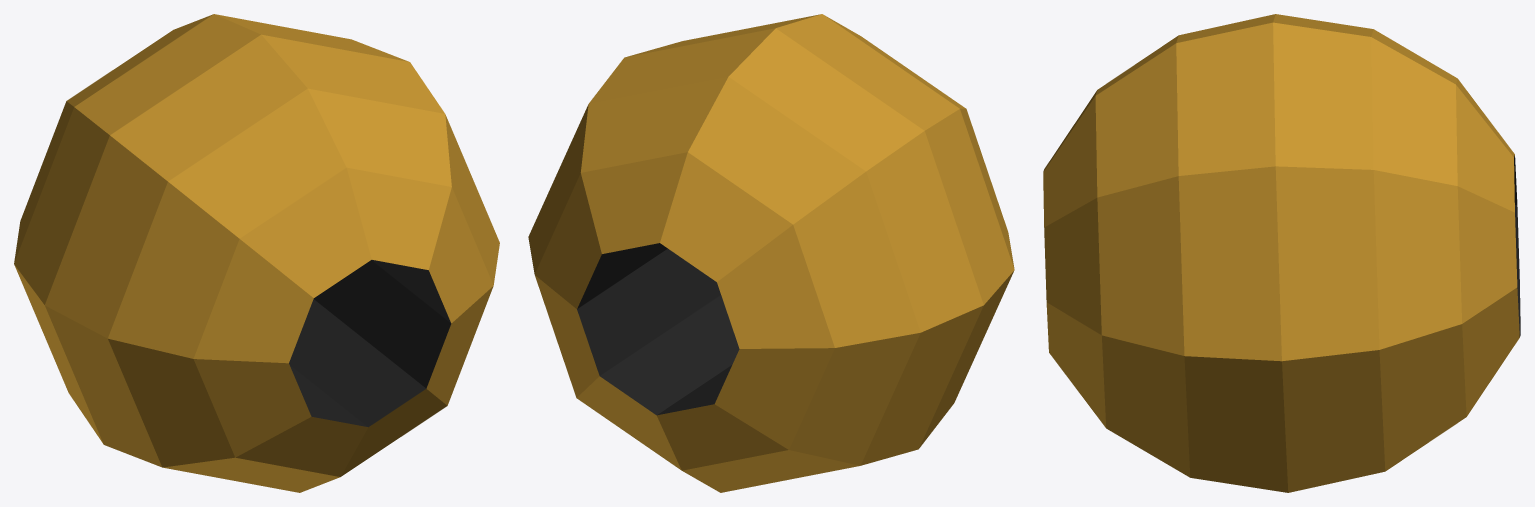
File: busina.fbx
3 views of the same model, side by side, from view 1: azimuth 30°, elevation 25°; view 2: azimuth 150°, elevation 25°; view 3: azimuth 270°, elevation 25° (orthographic). The views are drawn at different scales.
Visible parts, largest first — view 1: pSphere2; view 2: pSphere2; view 3: pSphere2.
Boxes of the visible parts, x1,y1,x2,y2 form: pSphere2: (14, 14, 499, 492); pSphere2: (528, 14, 1014, 492); pSphere2: (1043, 14, 1520, 492).
Bounding box in the file's own units: 0.1907 × 0.1906 × 0.1786.
